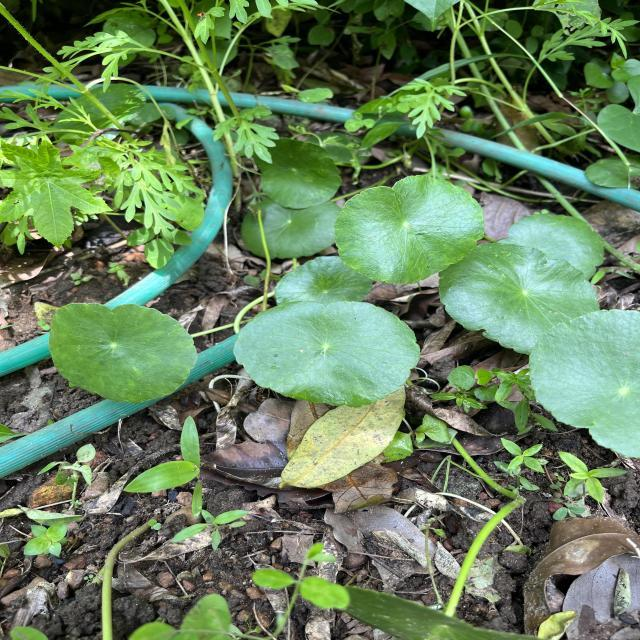Bacopa monnieri: (232, 297, 423, 410), (438, 241, 602, 356), (332, 172, 487, 286), (526, 308, 640, 460), (46, 300, 200, 406), (497, 211, 607, 285), (238, 196, 344, 261), (273, 252, 375, 311)
